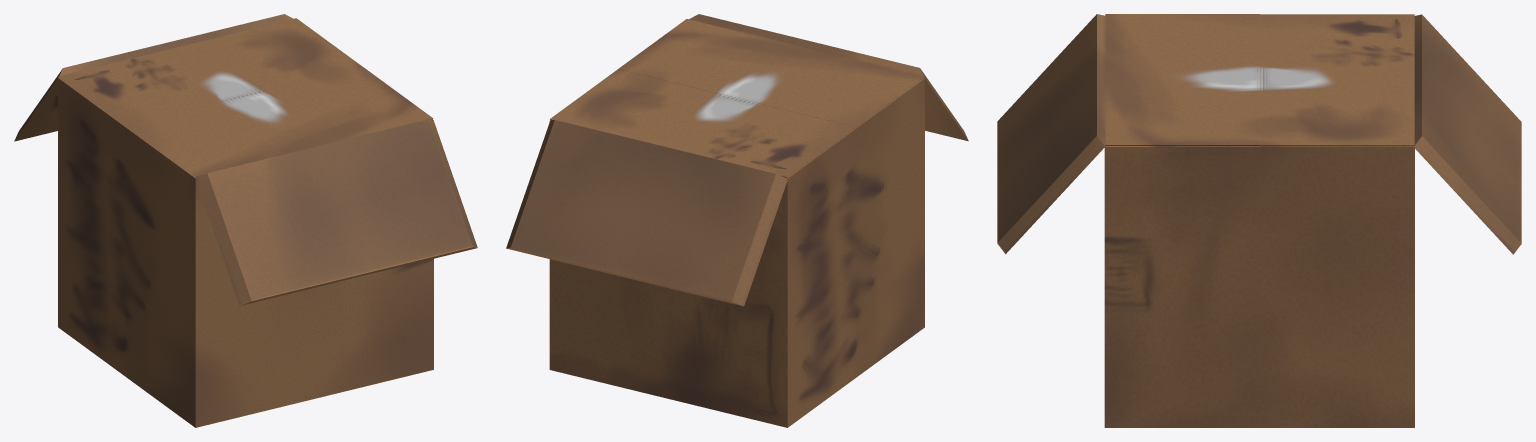
3 renders of one model, left to right at view 1: azimuth 30°, elevation 25°; view 2: azimuth 150°, elevation 25°; view 3: azimuth 270°, elevation 25°, orthographic. The views are drawn at different scales.
Visible parts, largest first — view 1: Box, BoxTop2, BoxTop1; view 2: Box, BoxTop2, BoxTop1; view 3: Box, BoxTop1, BoxTop2.
Part boxes in pixels (left/top/right/bottom): Box: left=58, top=77, right=433, bottom=427; BoxTop2: left=14, top=14, right=477, bottom=305; BoxTop1: left=58, top=18, right=433, bottom=177; Box: left=549, top=78, right=924, bottom=427; BoxTop2: left=506, top=14, right=968, bottom=306; BoxTop1: left=550, top=19, right=924, bottom=177; Box: left=1104, top=146, right=1414, bottom=427; BoxTop1: left=1105, top=14, right=1414, bottom=146; BoxTop2: left=997, top=14, right=1521, bottom=254.
Size of the model in its own units: 50.03 by 51.16 by 84.57.
